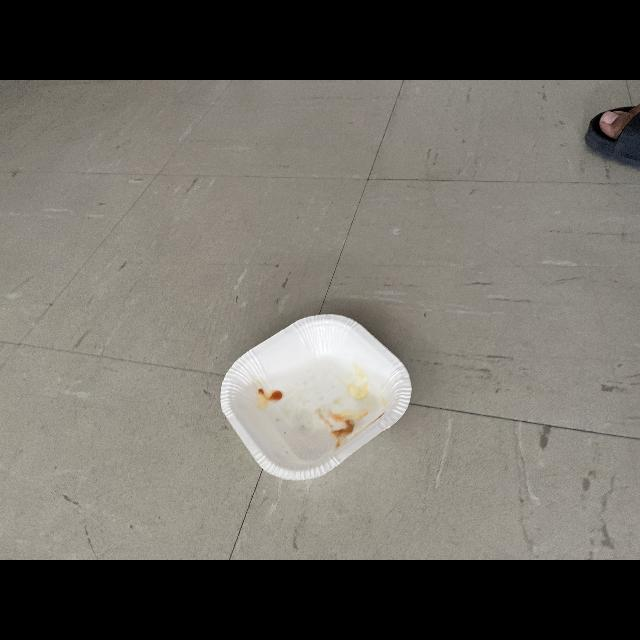cardboard_bowl: (221, 306, 417, 484)
